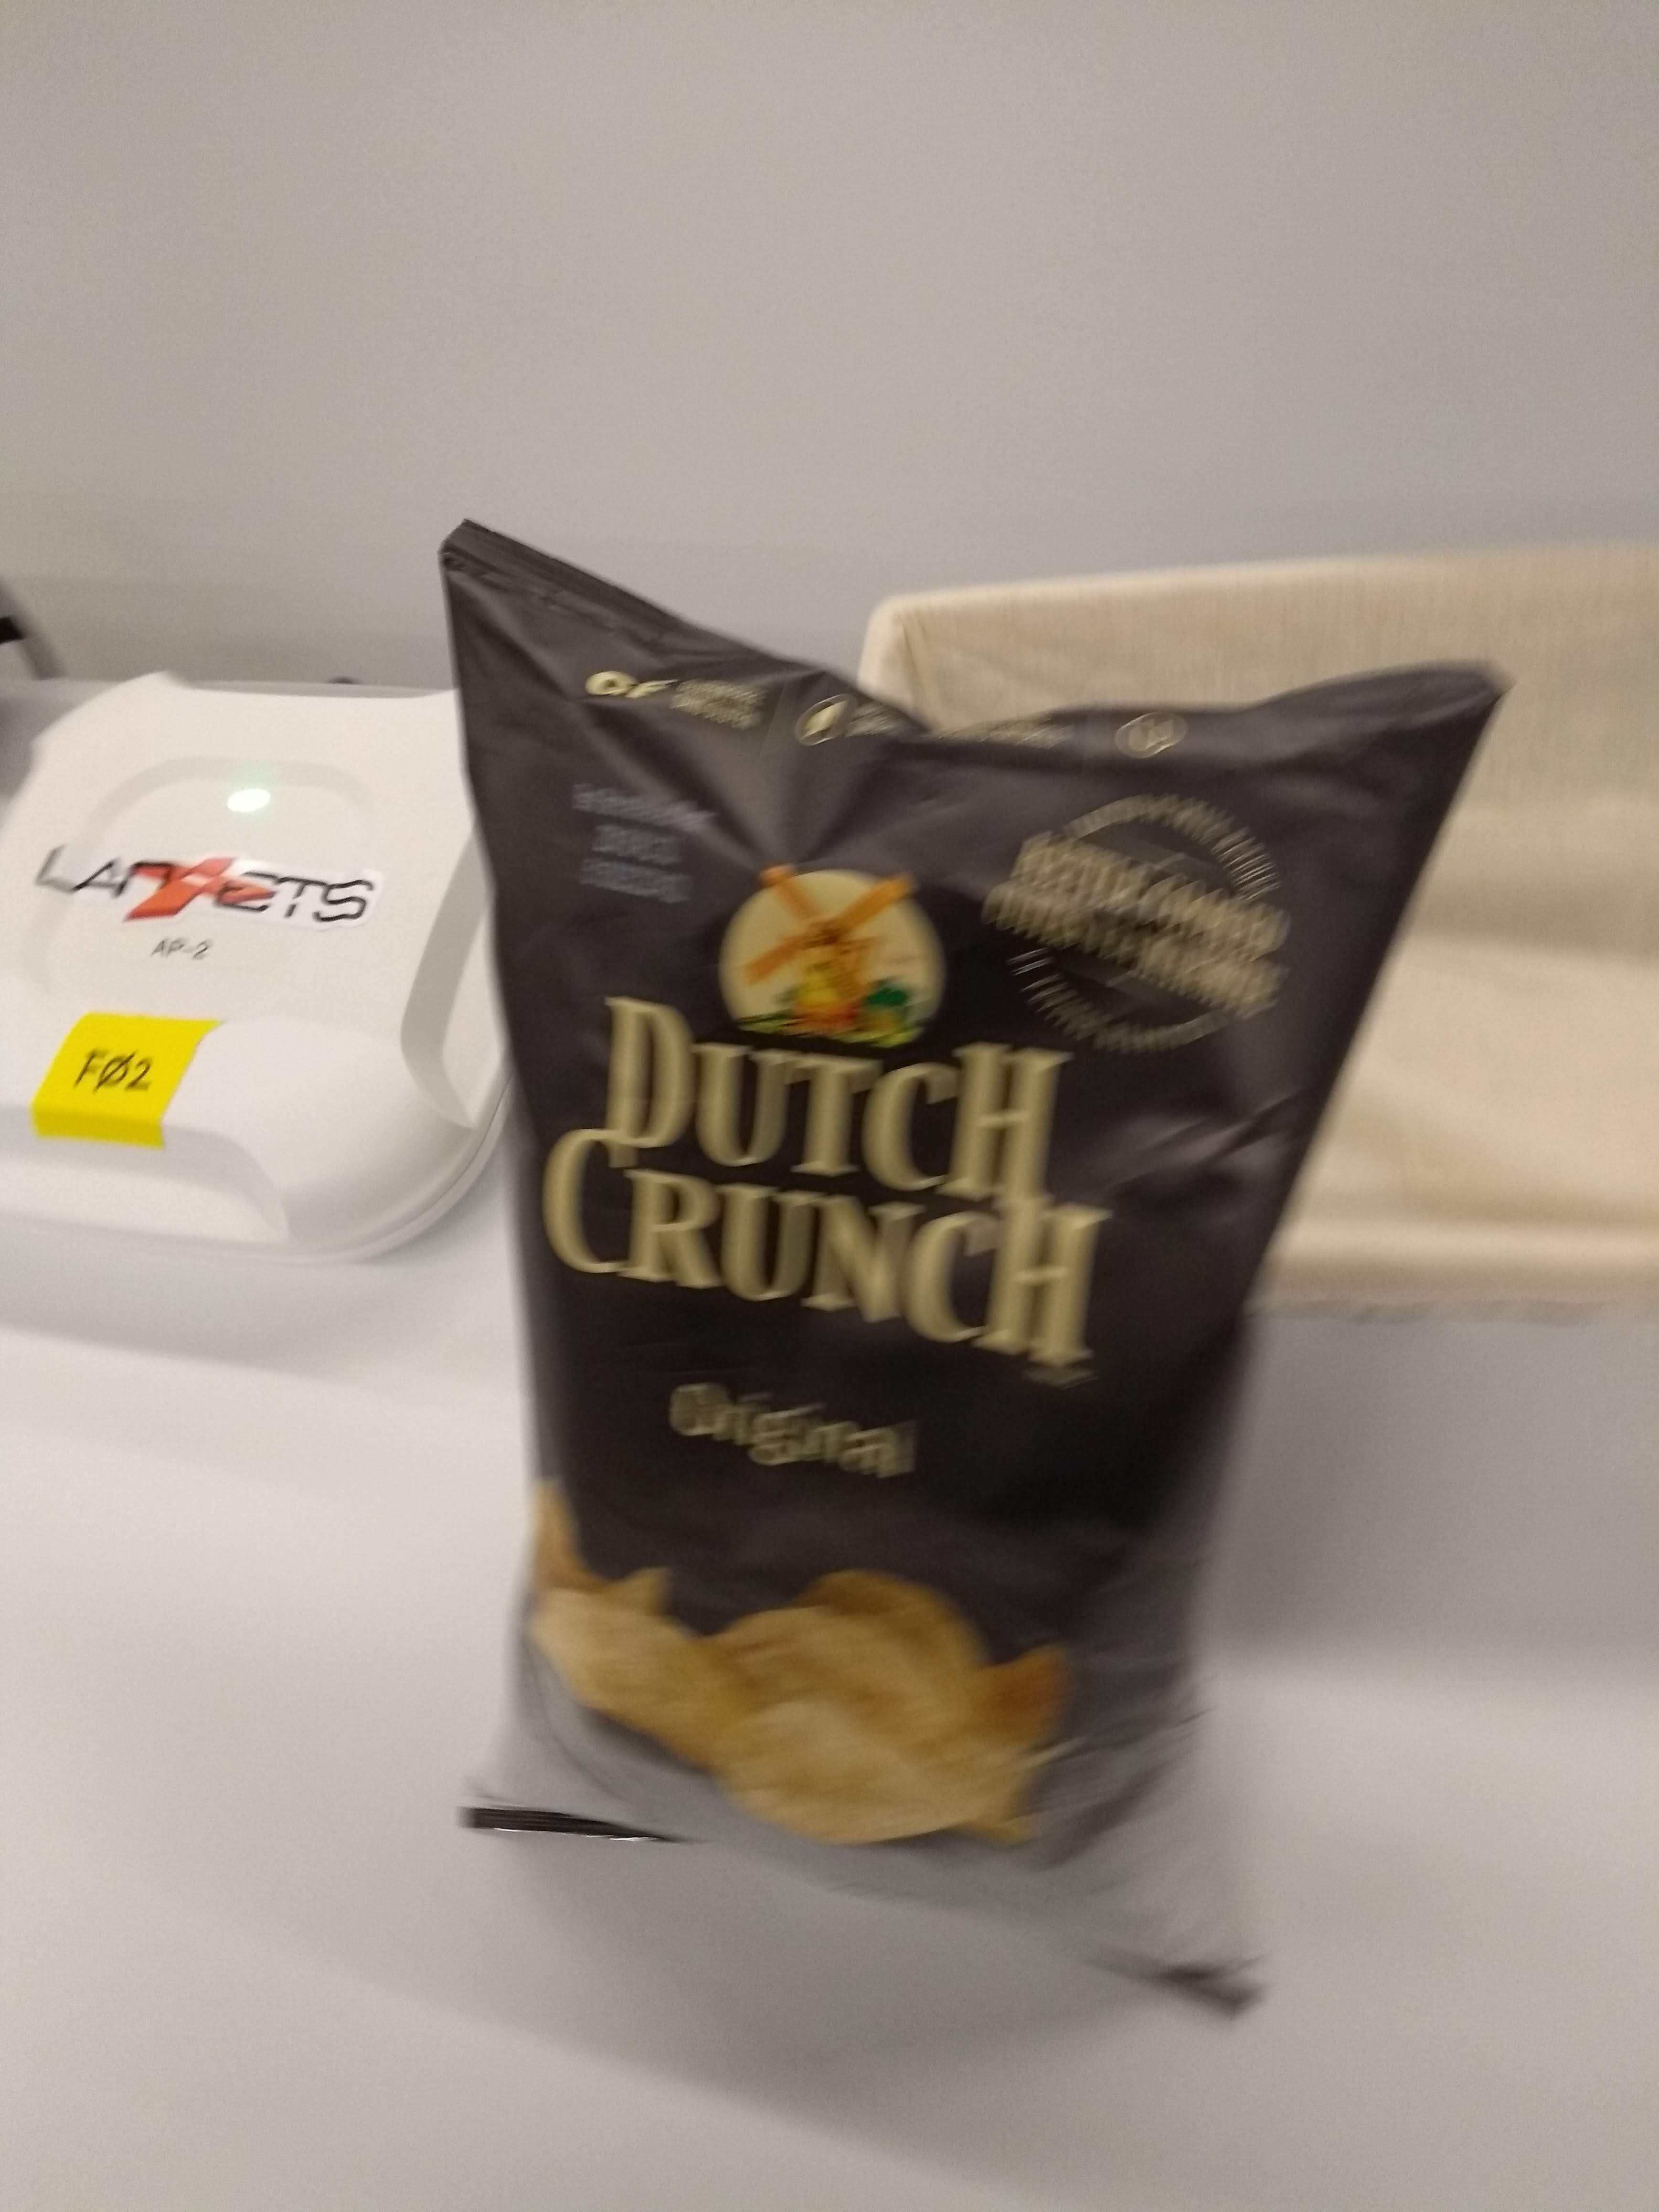potato_chips: (387, 500, 1527, 2045)
